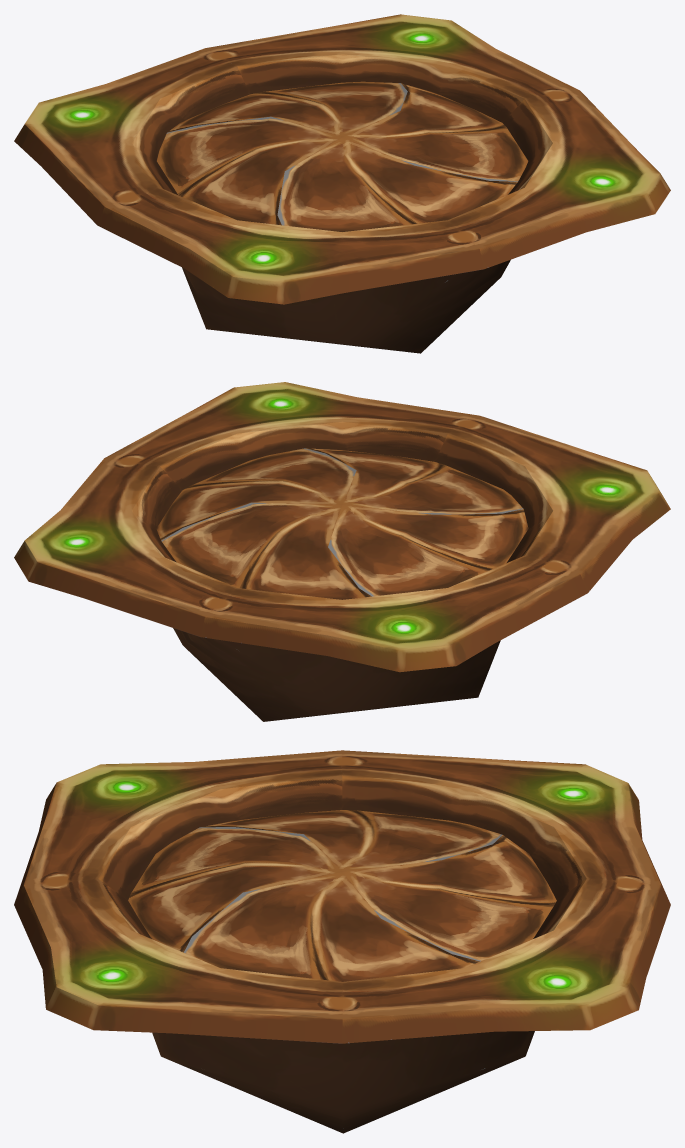
File: goal_01.fbx
The picture shows the model from 3 angles, top to bottom: view 1: azimuth 30°, elevation 25°; view 2: azimuth 150°, elevation 25°; view 3: azimuth 270°, elevation 25°; orthographic projection. The views are drawn at different scales.
Visible parts, largest first — view 1: front, back, blade_02, blade_01, blade_03, blade_04; view 2: front, back, blade_01, blade_04, blade_03, blade_02; view 3: front, back, blade_03, blade_04, blade_02, blade_01.
Part boxes in pixels (x1,y1,x2,y2): front: (14,14,670,304); back: (182,259,510,353); blade_02: (277,137,517,231); blade_01: (157,116,341,225); blade_03: (343,83,528,181); blade_04: (167,81,407,137); front: (14,382,670,672); back: (173,628,500,721); blade_01: (328,505,528,596); blade_04: (161,502,371,599); blade_03: (156,448,356,540); blade_02: (306,448,523,514); front: (14,750,670,1043); back: (152,1031,534,1133); blade_03: (184,872,479,981); blade_04: (343,835,556,961); blade_02: (128,827,341,952); blade_01: (201,810,502,871).
Bounding box in the file's own units: 2.37 × 0.9537 × 2.37.
